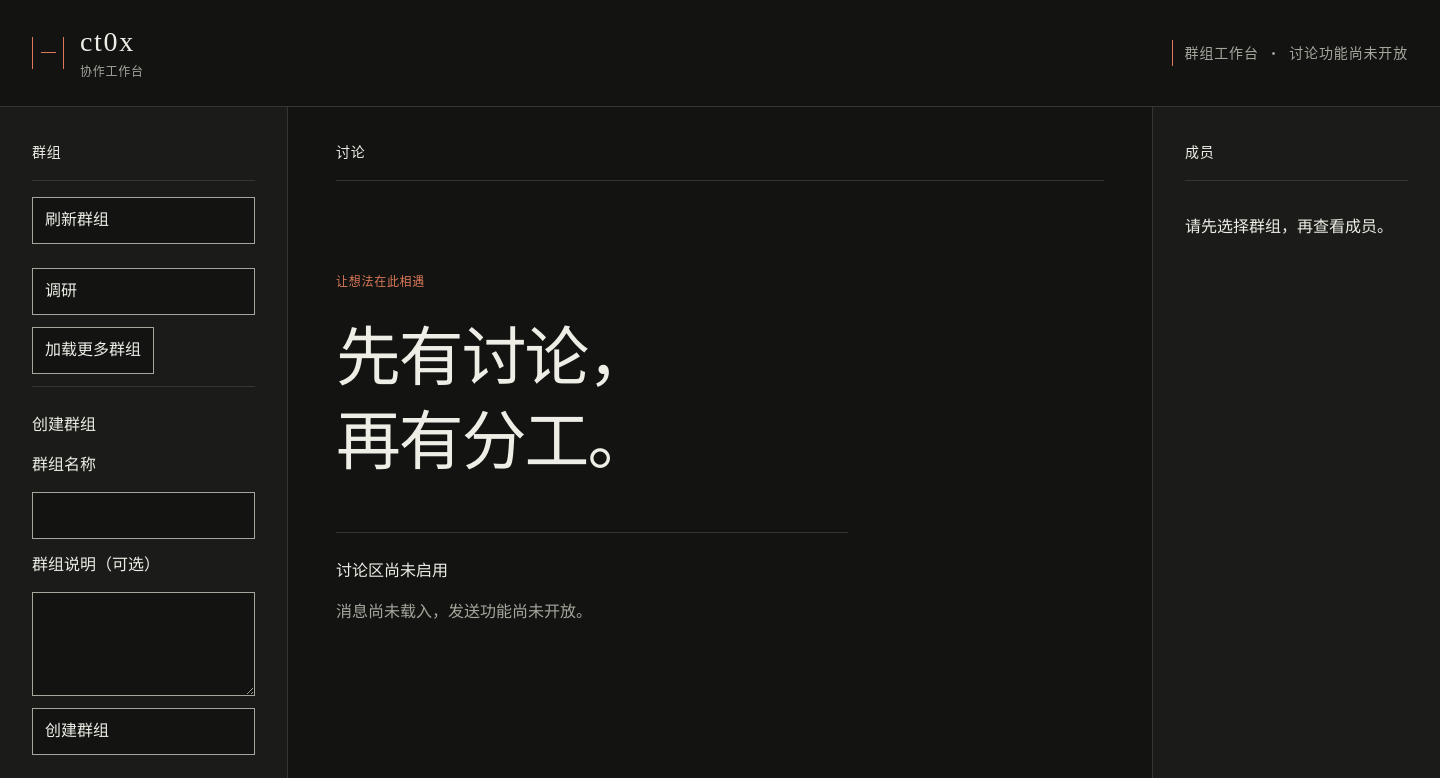
Scenario: workspace groups › loads another page only on demand, deduplicates IDs and preserves selection
The image size is (1440, 778).
Click the button "调研": (144, 291) top-left (32, 268), bottom-right (255, 315)
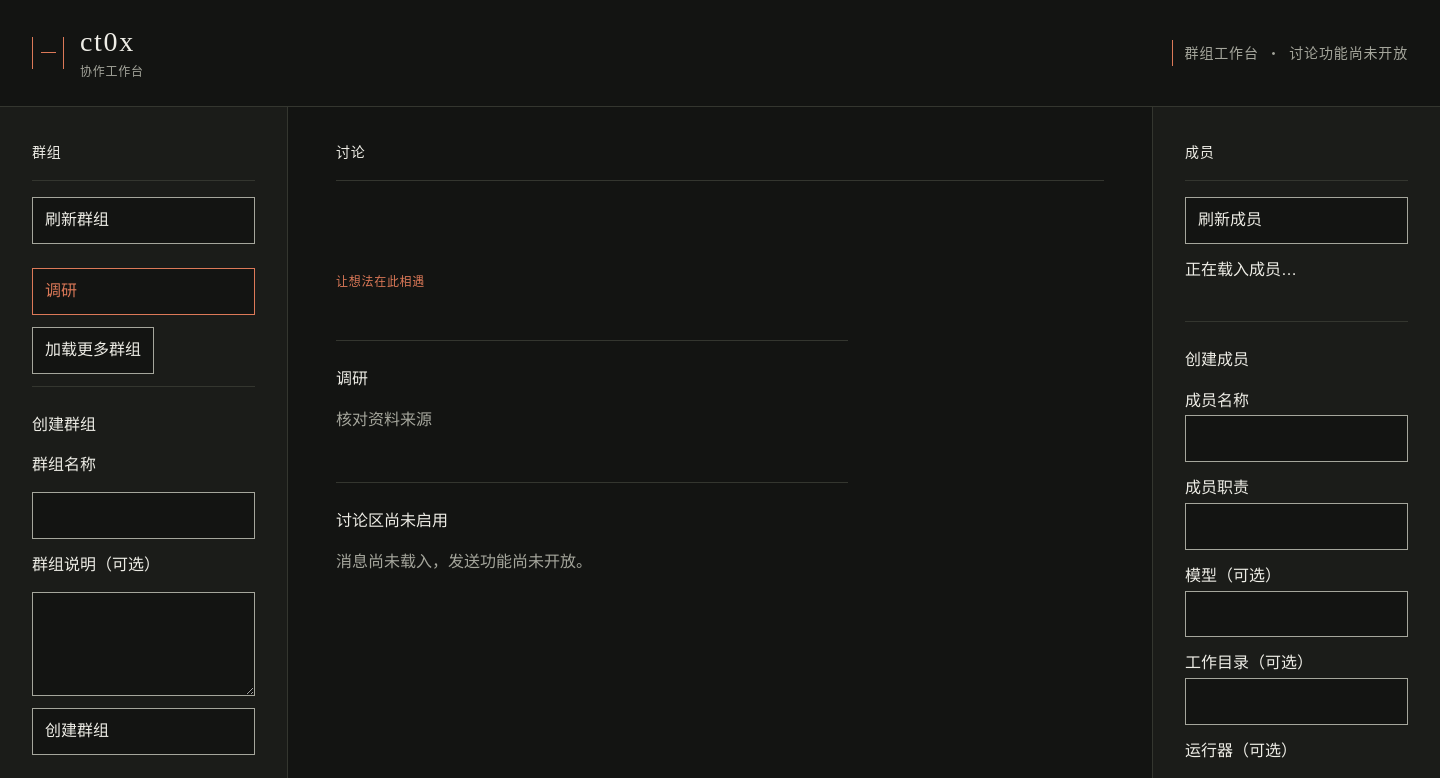
expect the text "核对资料来源" is shown: met, box top-left (336, 411), bottom-right (432, 428)
Click the button "加载更多群组": (93, 350) top-left (32, 327), bottom-right (154, 374)
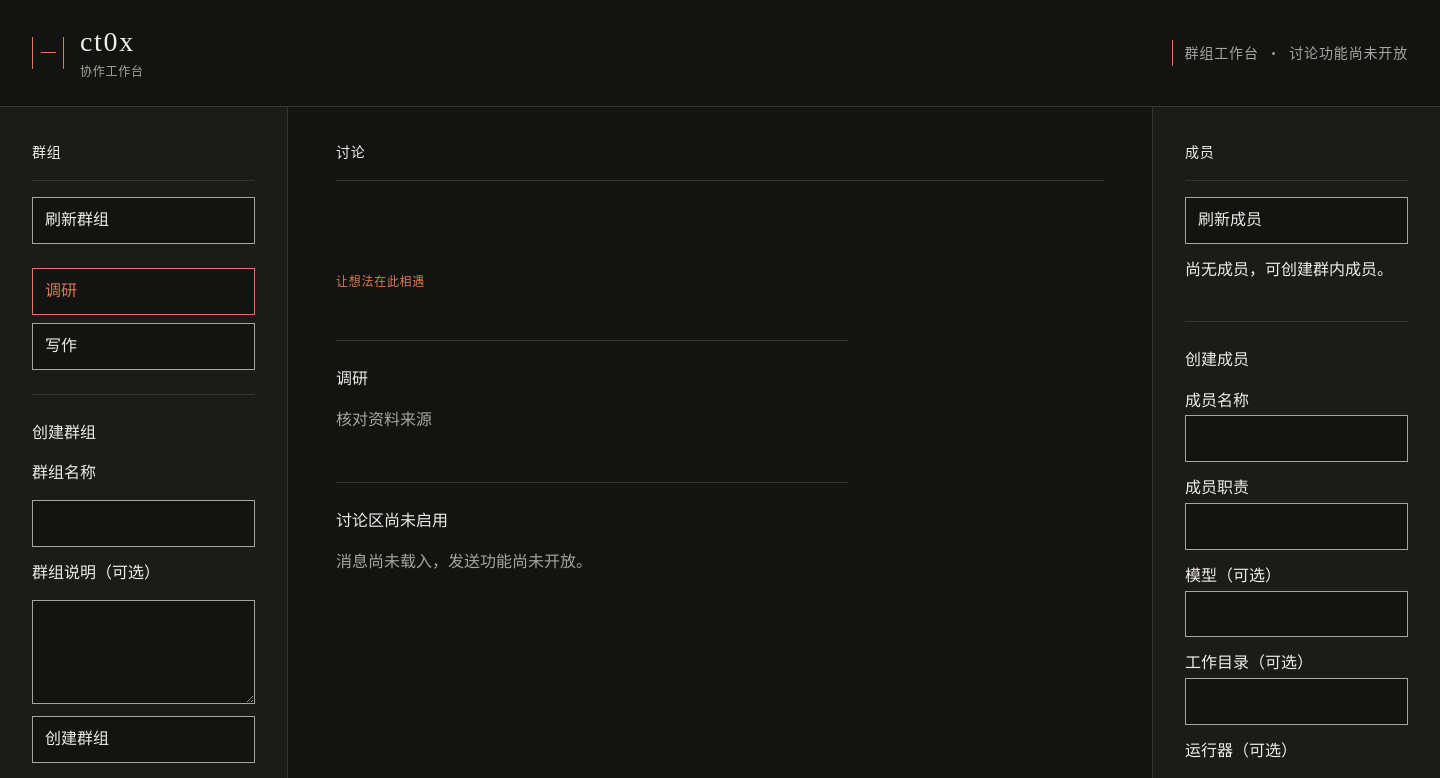
expect the number of buttons "调研" is 1: met, box top-left (32, 268), bottom-right (255, 315)
expect the button "写作" is shown: met, box top-left (32, 323), bottom-right (255, 370)
expect the button "加载更多群组" is gone: met
